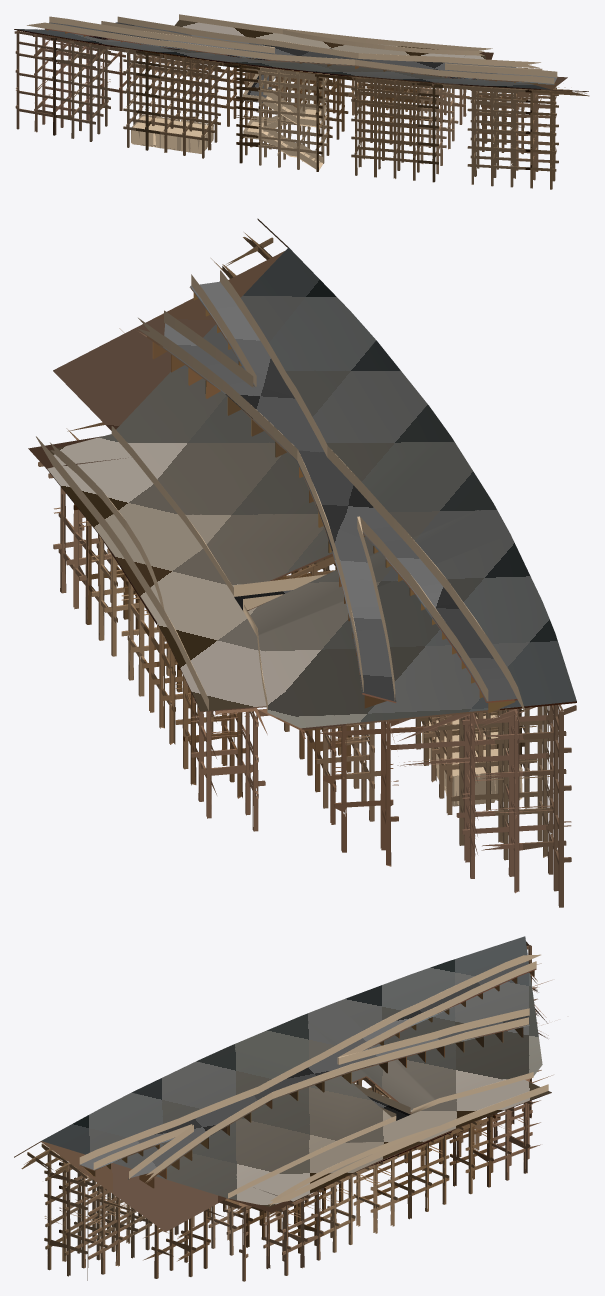
3 views of the same model, one above another, from view 1: azimuth 30°, elevation 25°; view 2: azimuth 150°, elevation 25°; view 3: azimuth 270°, elevation 25° (orthographic). The views are drawn at different scales.
Visible parts, largest first — view 1: GrandRoofRing_大屋根リング; view 2: GrandRoofRing_大屋根リング; view 3: GrandRoofRing_大屋根リング.
Part boxes in pixels (box(x1,y1,x2,y2)): GrandRoofRing_大屋根リング: box(14, 14, 589, 189); GrandRoofRing_大屋根リング: box(28, 218, 576, 907); GrandRoofRing_大屋根リング: box(14, 936, 552, 1281).
Size of the model in its own units: 85.79 by 20.63 by 85.29.
Materials: 4 (3 with a texture image).
